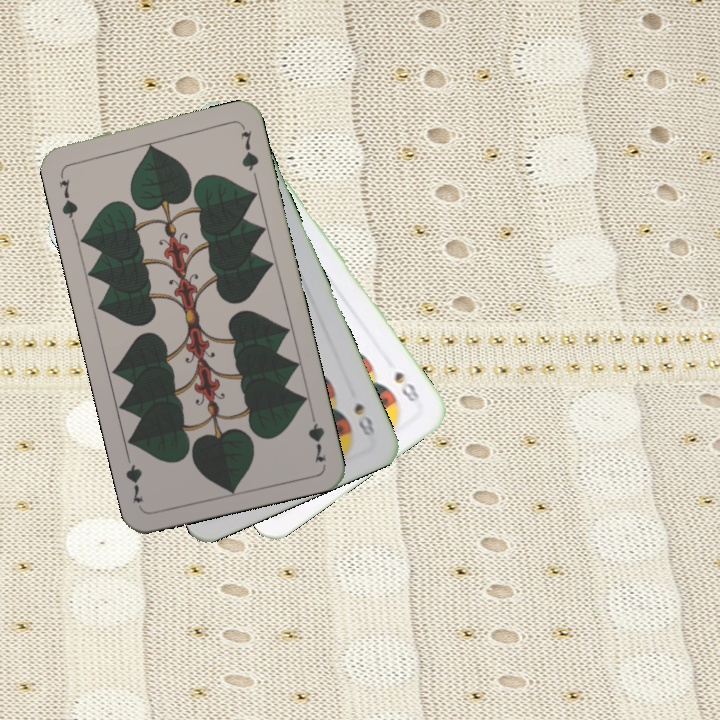G7: (55, 168, 81, 226), (304, 407, 329, 465)
S8: (390, 367, 423, 407), (350, 398, 378, 439)
